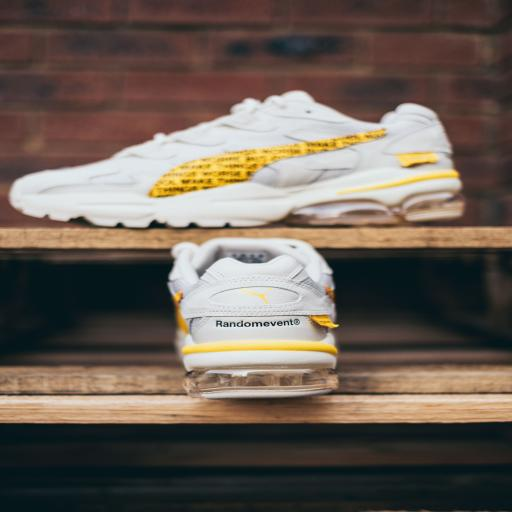shoe: (10, 91, 463, 227), (170, 238, 337, 398)
